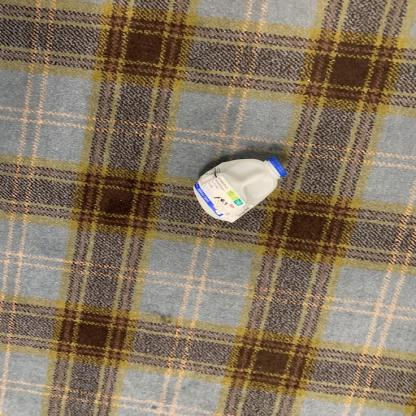trash: (189, 155, 290, 226)
